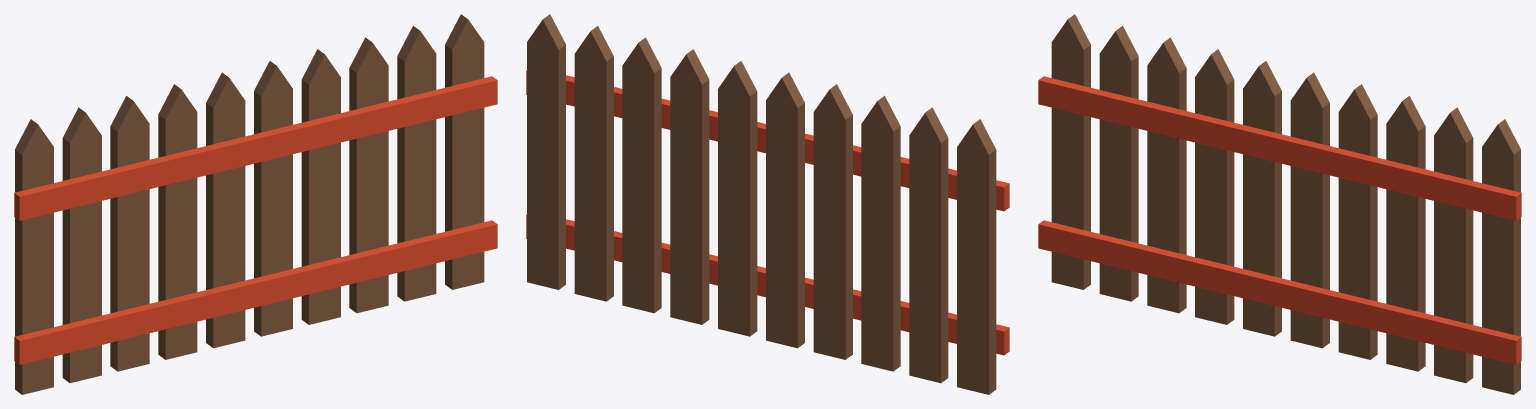
File: Fence.fbx
The picture shows the model from 3 angles, left to right: view 1: azimuth 30°, elevation 25°; view 2: azimuth 150°, elevation 25°; view 3: azimuth 330°, elevation 25°; orthographic projection.
Parts seen in each view (by area): view 1: Fence; view 2: Fence; view 3: Fence.
Boxes of the visible parts, bbox=[...] form: Fence: bbox=[14, 14, 497, 394]; Fence: bbox=[526, 14, 1009, 394]; Fence: bbox=[1038, 14, 1521, 394].
Size of the model in its own units: 750 by 400 by 35.
